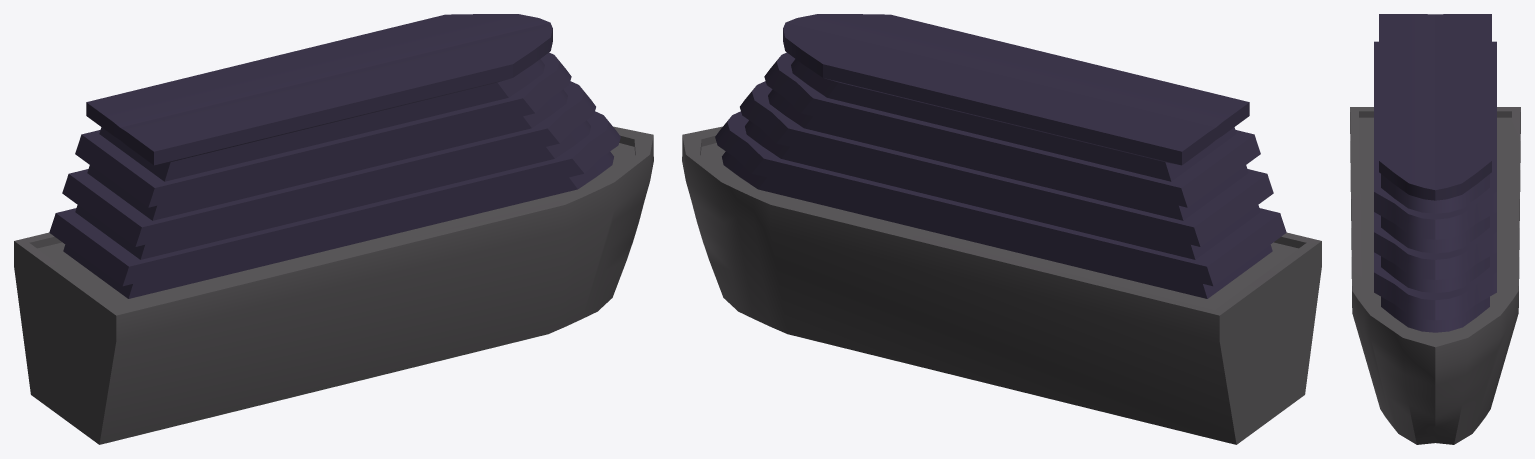
File: ship.fbx
3 views of the same model, side by side, from view 1: azimuth 30°, elevation 25°; view 2: azimuth 150°, elevation 25°; view 3: azimuth 270°, elevation 25° (orthographic). The views are drawn at different scales.
Parts seen in each view (by area): view 1: Cube.001, Cube.005; view 2: Cube.001, Cube.005; view 3: Cube.001, Cube.005.
Part boxes in pixels (bbox=[...]): Cube.001: bbox=[49, 14, 620, 298]; Cube.005: bbox=[14, 126, 653, 444]; Cube.001: bbox=[715, 14, 1286, 298]; Cube.005: bbox=[682, 126, 1321, 444]; Cube.001: bbox=[1374, 14, 1496, 332]; Cube.005: bbox=[1350, 107, 1520, 444].
Size of the model in its own units: 588 by 268 by 177.
